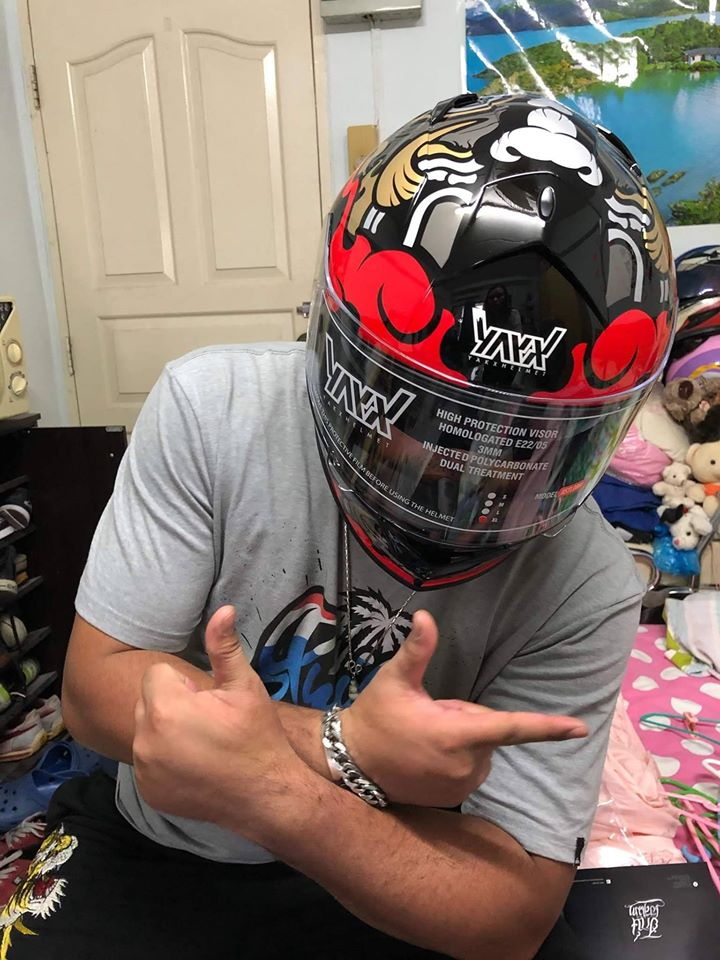helmet: (306, 95, 678, 591)
